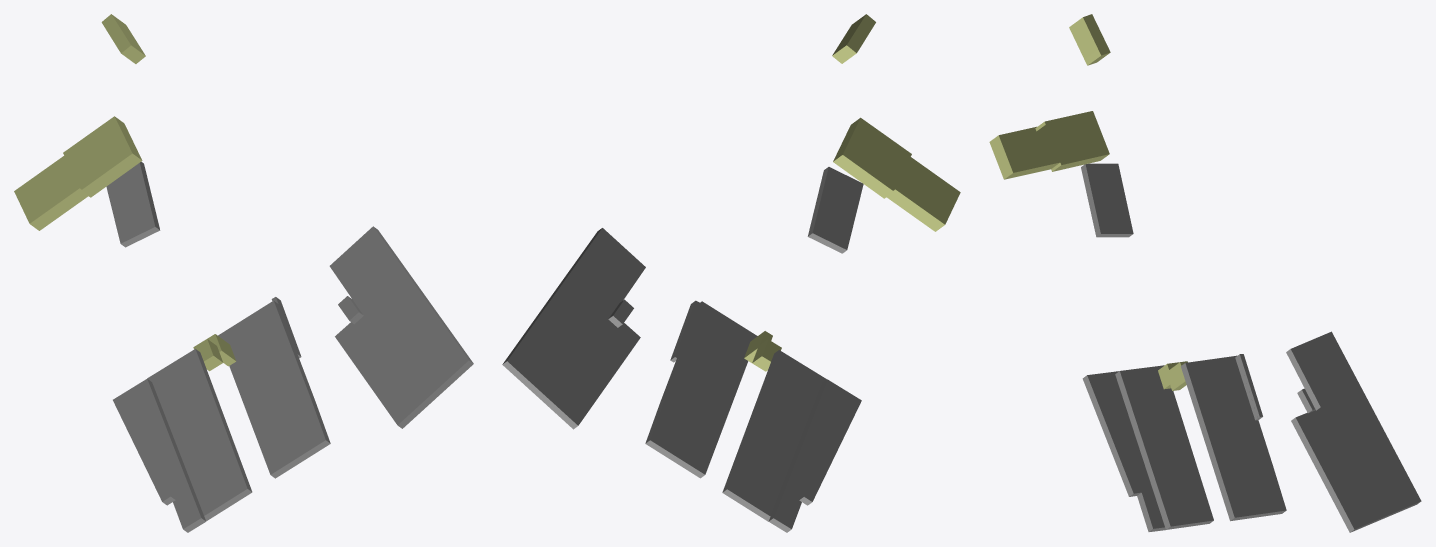
The picture shows the model from 3 angles, left to right: view 1: azimuth 30°, elevation 25°; view 2: azimuth 150°, elevation 25°; view 3: azimuth 330°, elevation 25°; orthographic projection. The views are drawn at different scales.
Parts seen in each view (by area): view 1: 0_1_2_0_0_1_2; view 2: 0_1_2_0_0_1_2; view 3: 0_1_2_0_0_1_2.
Part boxes in pixels (x1,y1,x2,y2): 0_1_2_0_0_1_2: (14, 14, 473, 532); 0_1_2_0_0_1_2: (502, 14, 960, 532); 0_1_2_0_0_1_2: (989, 14, 1421, 532).
Bounding box in the file's own units: 159 × 177 × 9.69.
